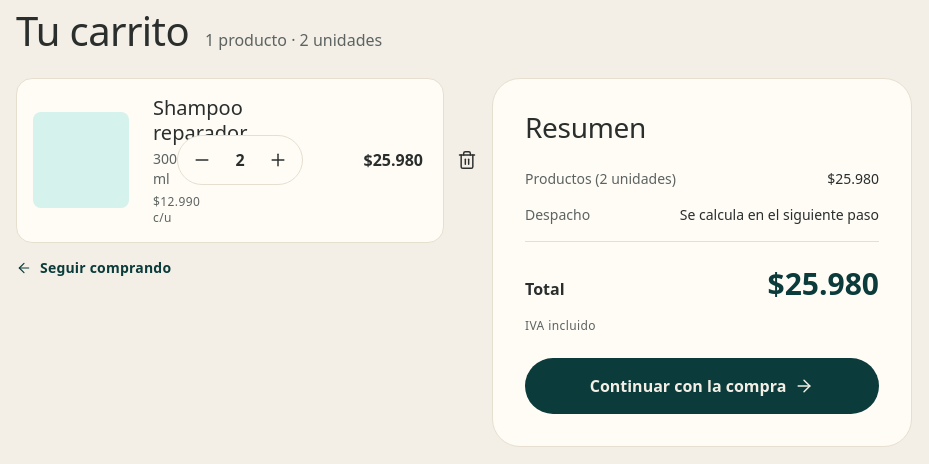
SCRUM-116 · Pantalla del carrito › E5-H1 FE · agregar y cambiar: cambiar la cantidad la envía y muestra los totales que devuelve el backend
Click the button named "Agregar una unidad". click: (278, 160)
box: [258,140,298,180]
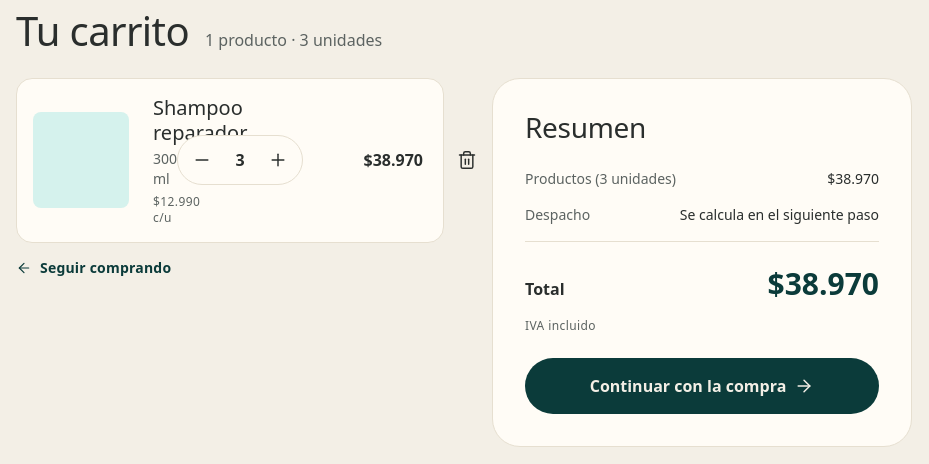
Expected: the text "$38.970" is shown 2 times, [827,169,879,189]; [768,266,879,302]
Expected: the text "3" is shown, [235,150,245,172]
